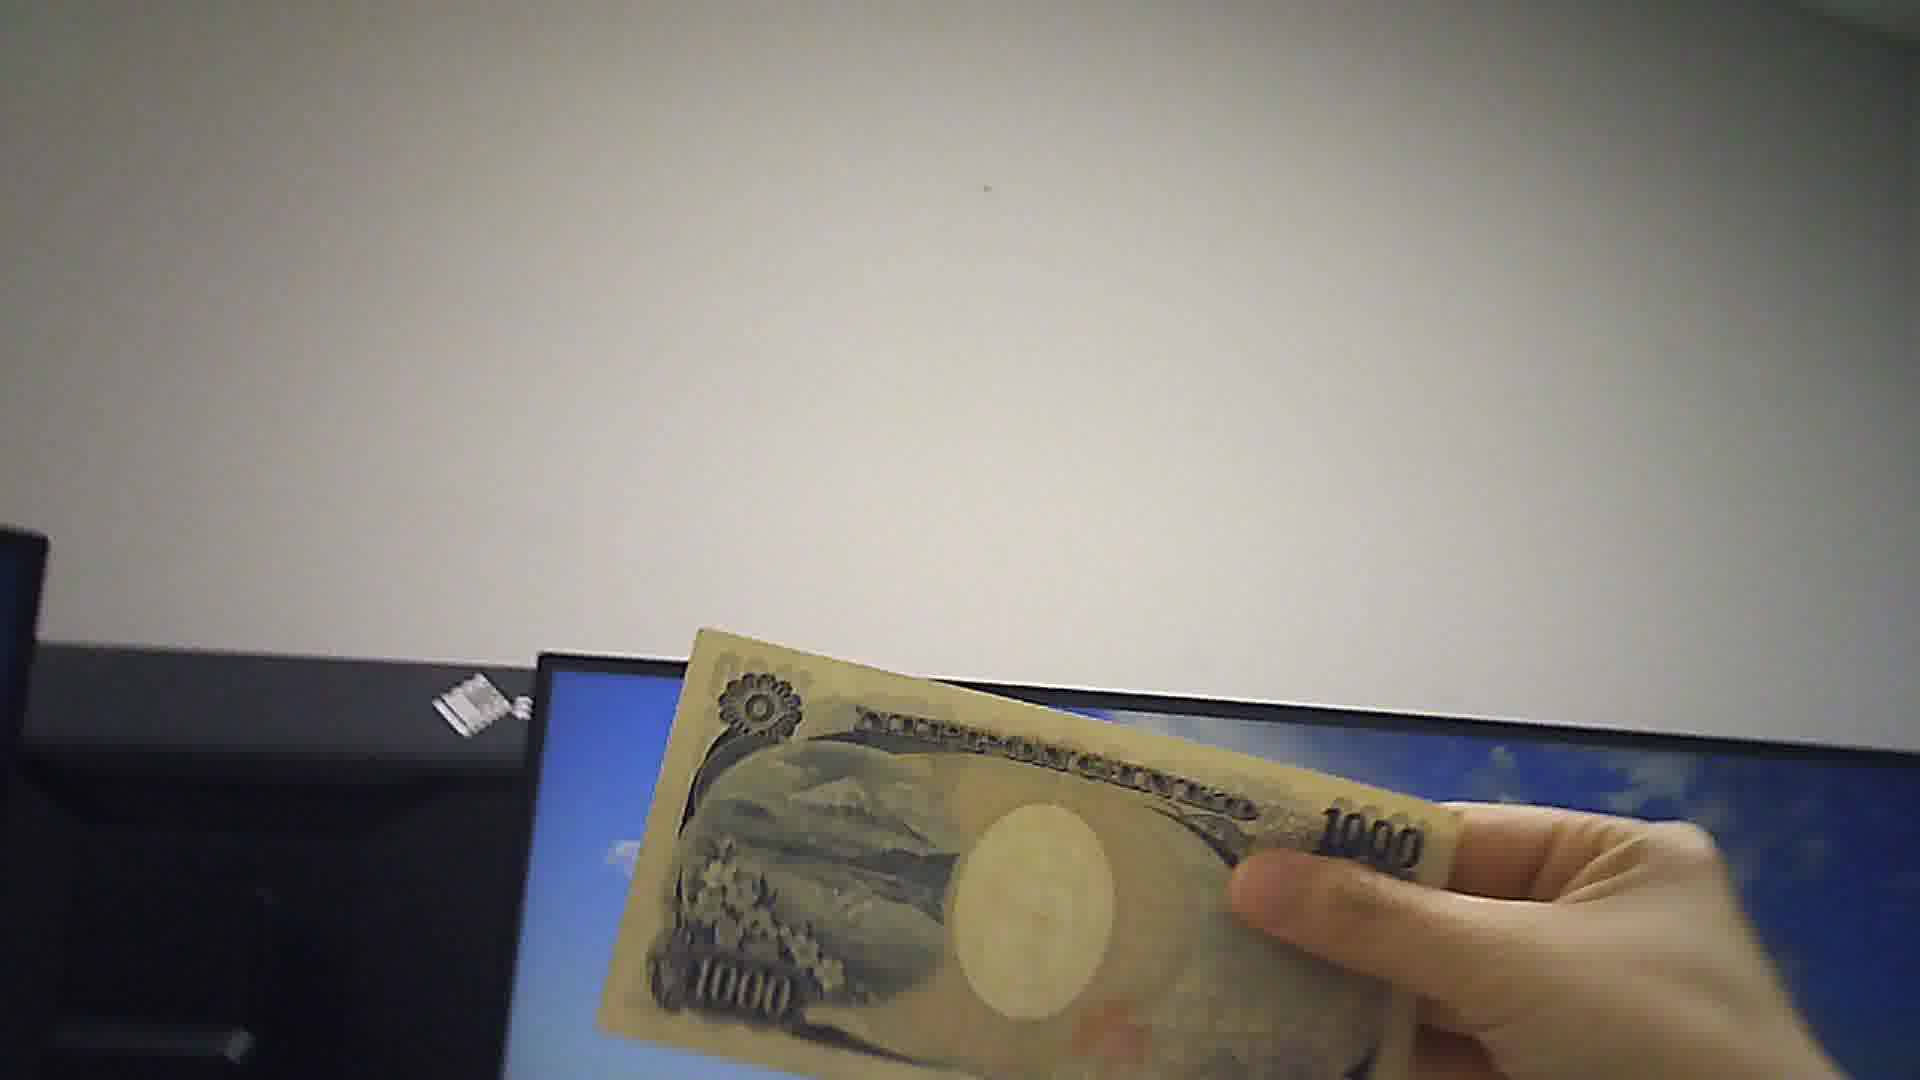1,000 Yen: (603, 618, 1443, 1079)
